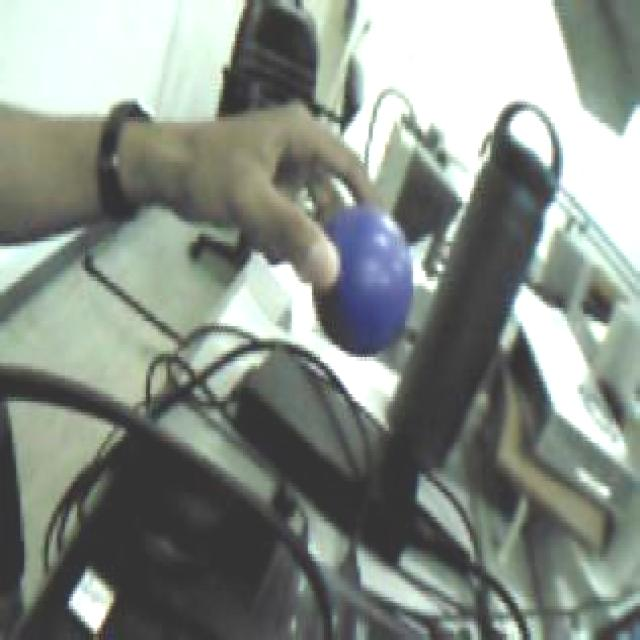BallPurple: (309, 205, 414, 356)
